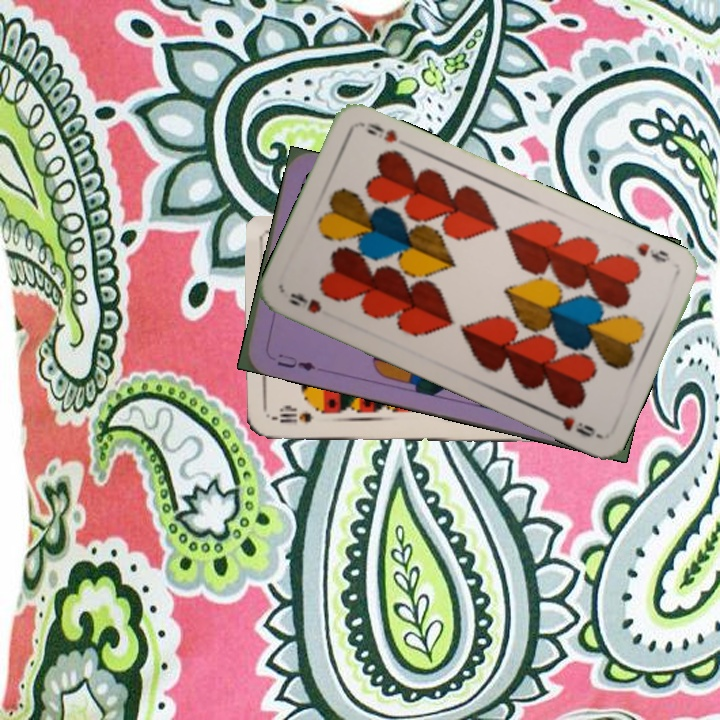EU: (273, 349, 318, 374)
H9: (632, 238, 673, 265), (286, 288, 324, 317)
S10: (267, 406, 315, 426)
